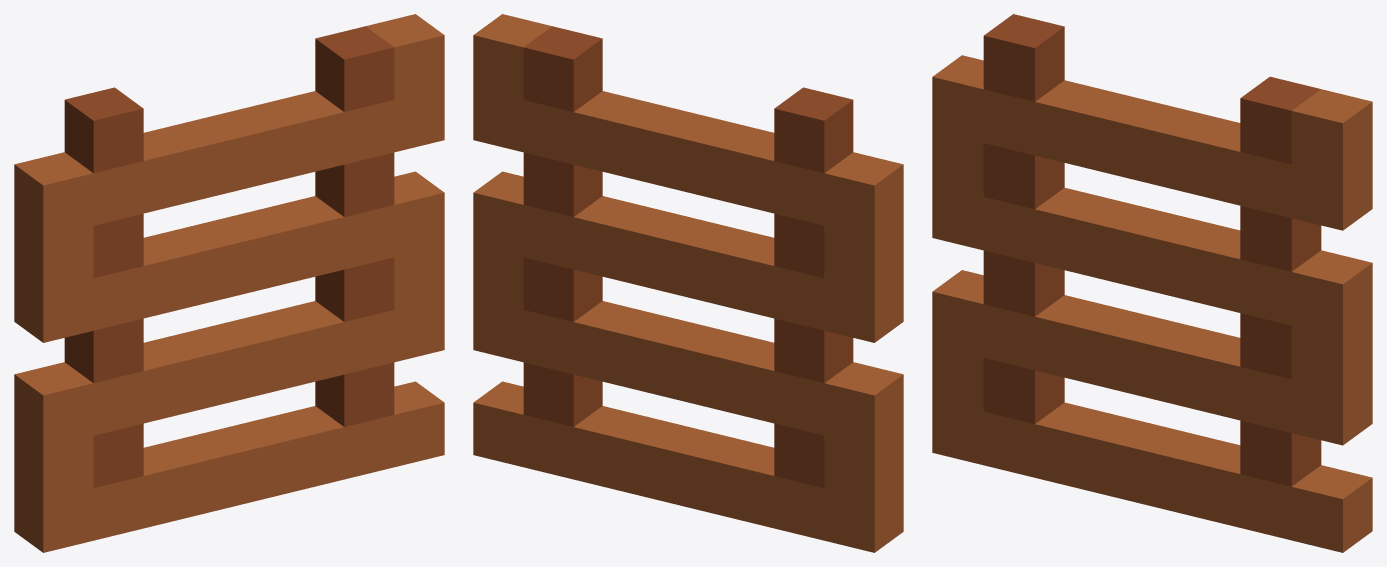
File: Plum Ladder.glb
3 views of the same model, side by side, from view 1: azimuth 30°, elevation 25°; view 2: azimuth 150°, elevation 25°; view 3: azimuth 330°, elevation 25° (orthographic). The views are drawn at different scales.
Parts seen in each view (by area): view 1: generated(Clone); view 2: generated(Clone); view 3: generated(Clone).
Part boxes in pixels (<box>): generated(Clone): <box>14,14,444,552</box>; generated(Clone): <box>473,14,903,552</box>; generated(Clone): <box>932,14,1372,552</box>.
Size of the model in its own units: 0.8 by 0.8 by 0.1.
1 material, 1 textured.
